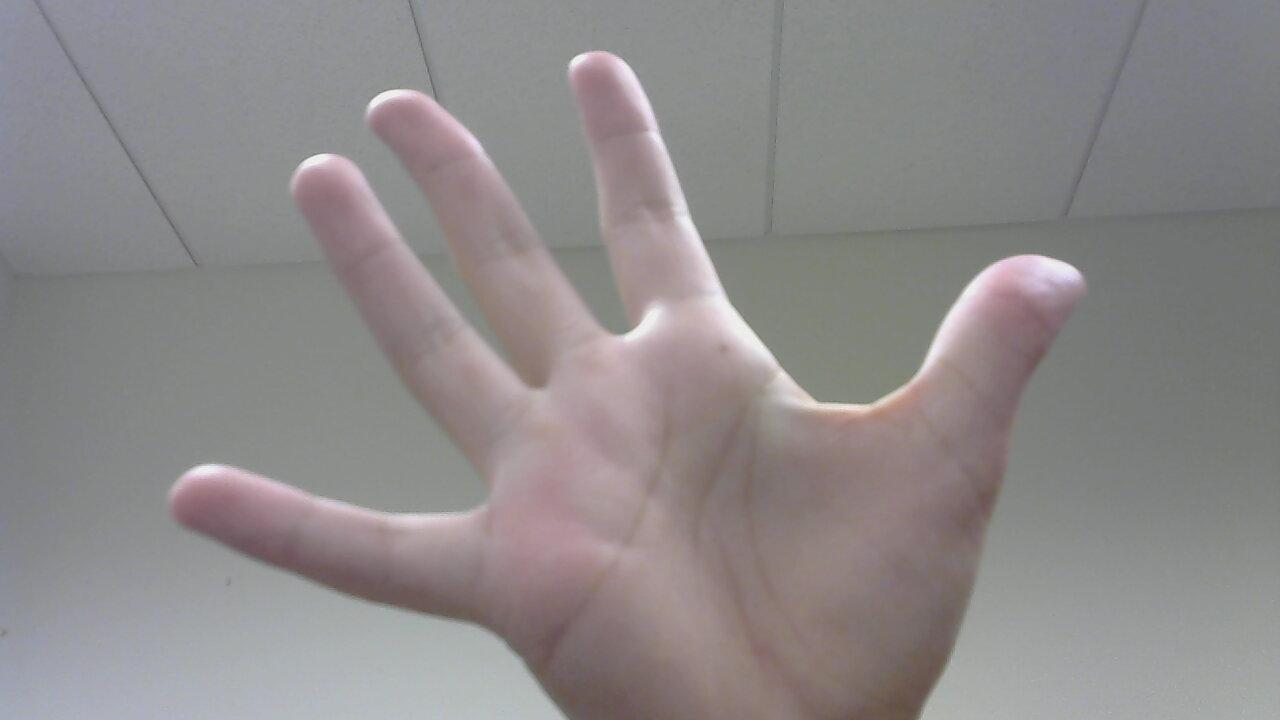hands: (156, 44, 1097, 720)
